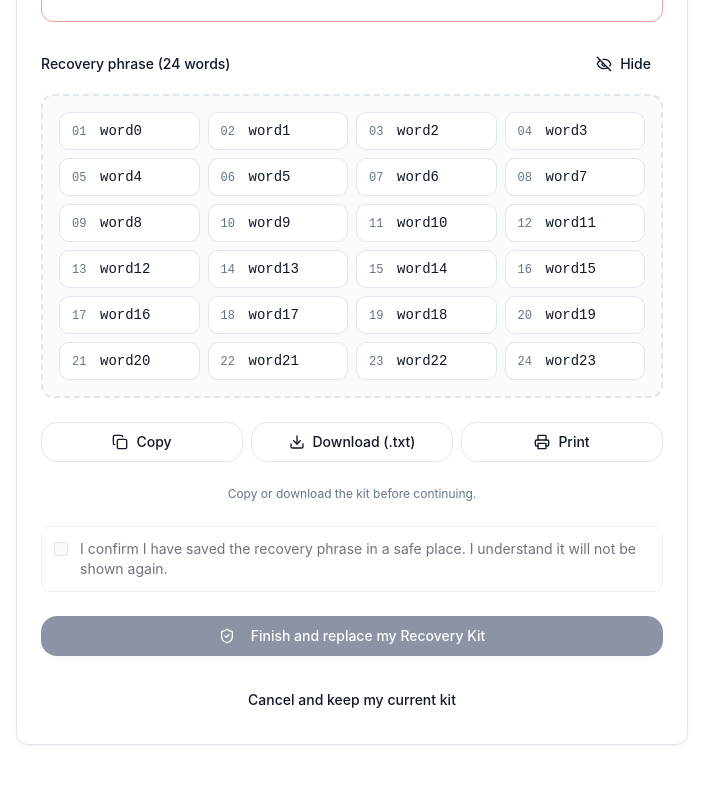
Test: a new kit whose save cannot be confirmed › when the save is known to have failed, says so and still offers to keep the current kit
(page scrolled)
Click the button "Copy".
click(142, 442)  # box [41,422,243,462]
(page scrolled)
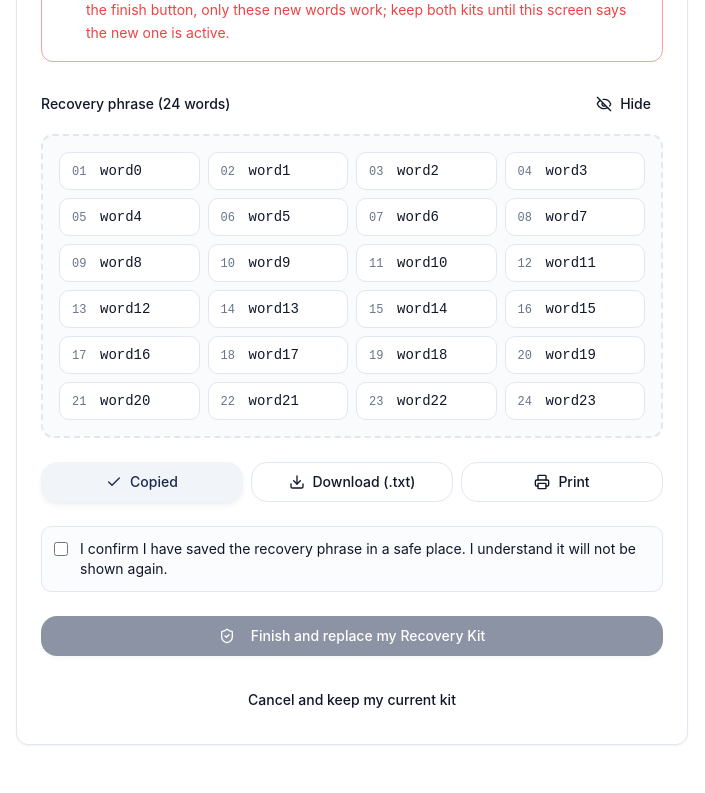
Expected: the checkbox labelled "I confirm I have saved the recovery phrase" is enabled
Click the checkbox labelled "I confirm I have saved the recovery phrase".
click(61, 549)  # box [54,541,68,557]
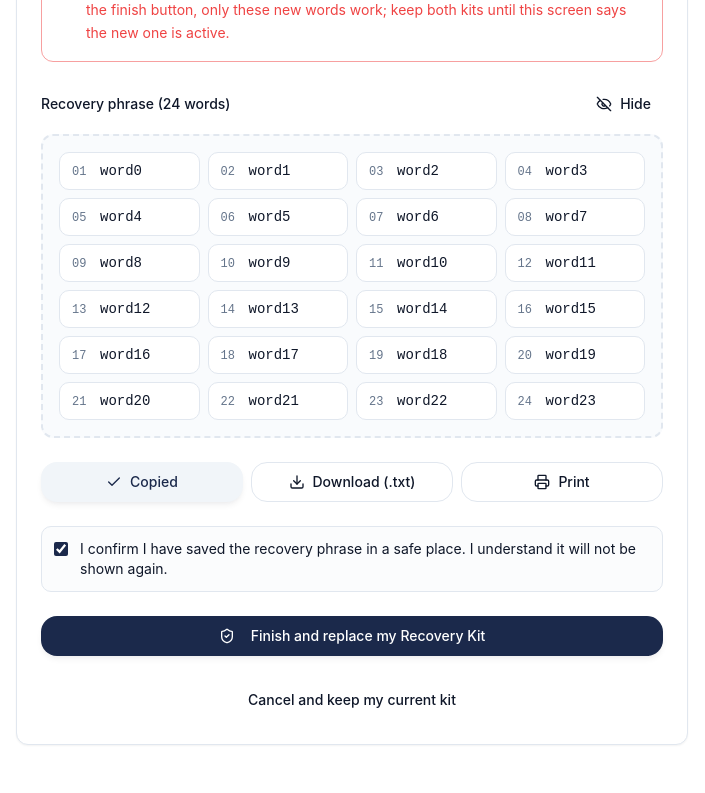
Click the button "Finish and replace my Recovery Kit".
click(352, 636)  # box [41,616,663,656]
(page scrolled)
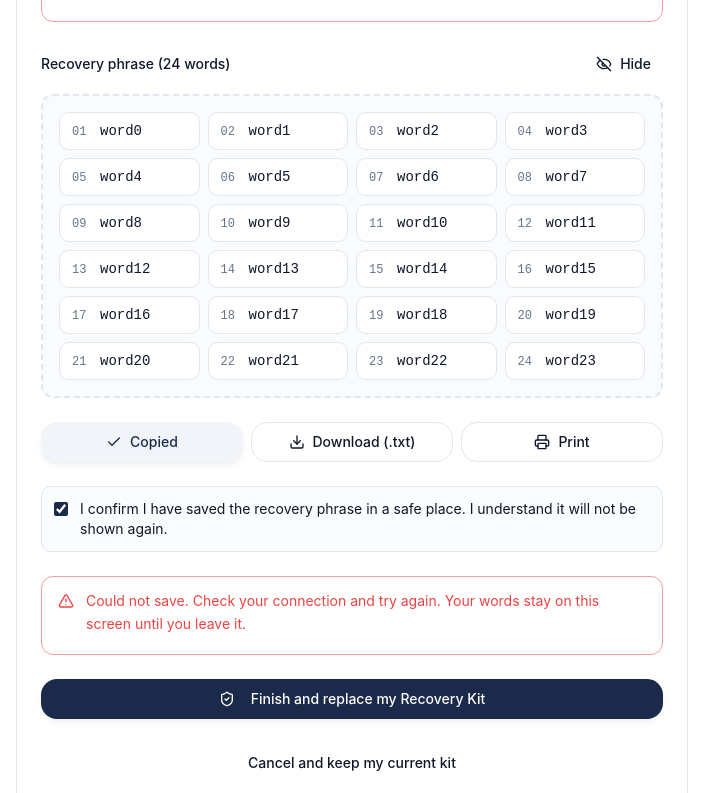
Expected: the button "Cancel and keep my current kit" is shown, [41,743,663,783]
Expected: the message with test id "recovery-kit-failure" shows "Could not save. Check your connection and try again. Your words stay on this screen until you leave it.", [86,592,599,632]
